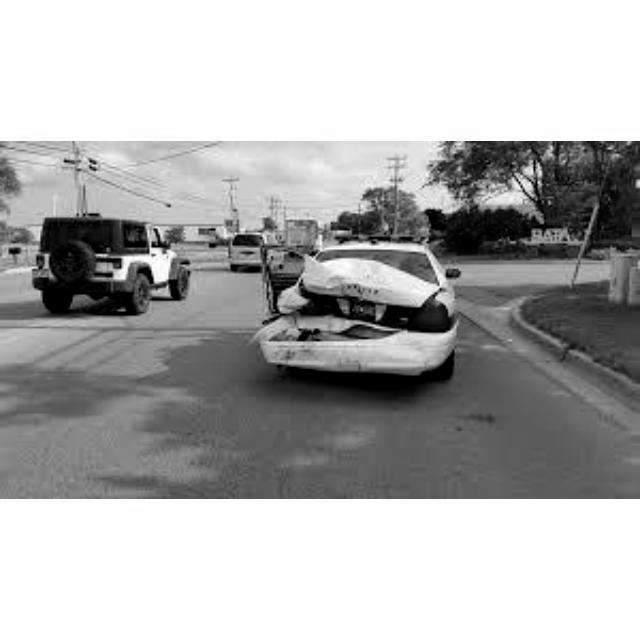boot-dent: (306, 256, 421, 324)
rear-bumper-dent: (269, 323, 429, 369)
